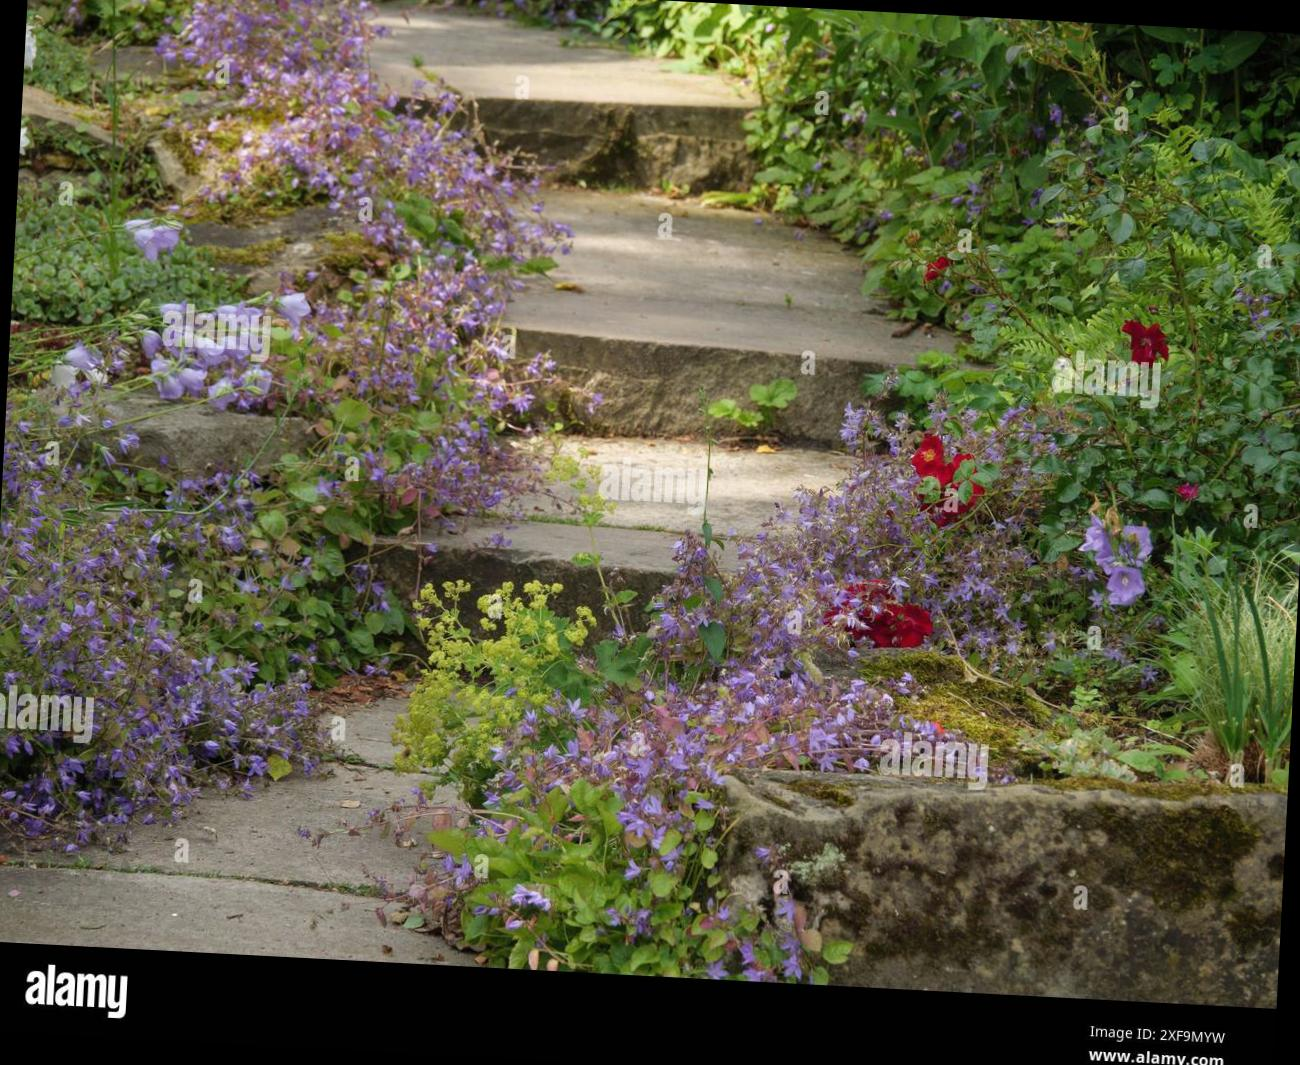overgrown grass: (397, 4, 1300, 987), (0, 0, 552, 815)
